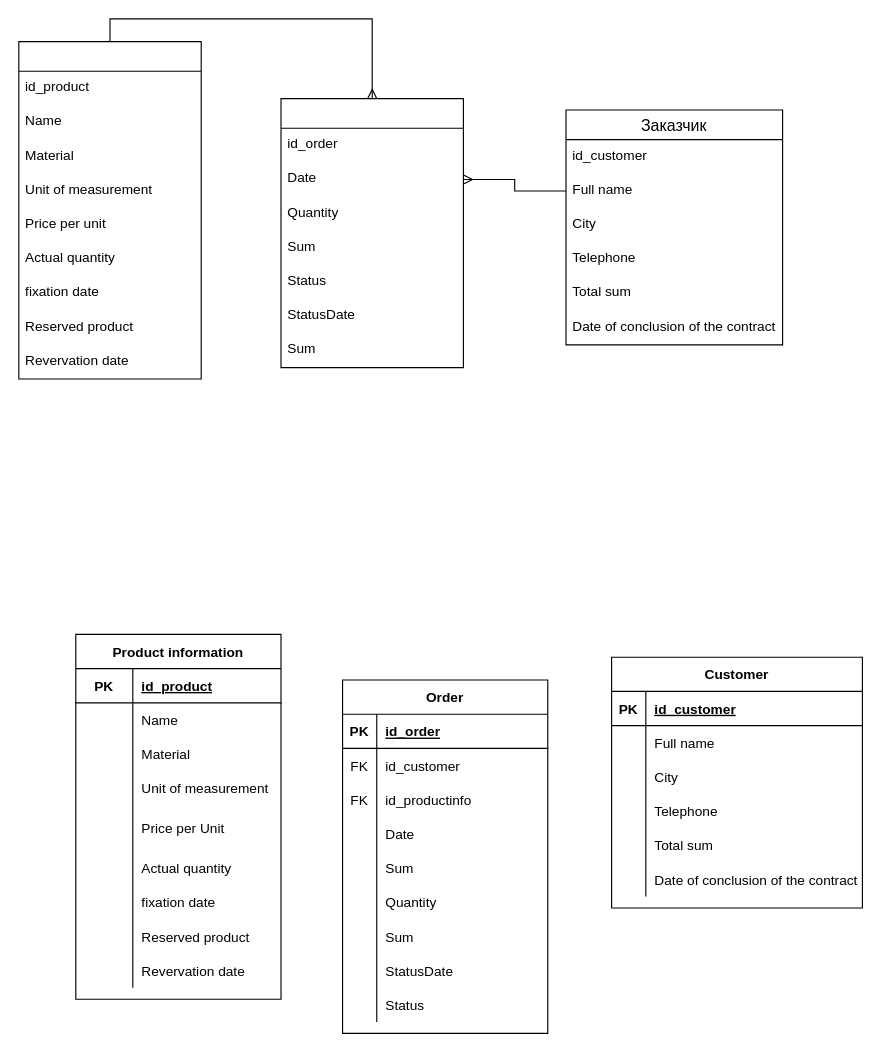
Image size: 881x1052. Some labels were removed from this diagram. The shapes that lost their labels are listed below. From the top down, each one's box as (x1, y1, x2, y2) in pixels, then its label:
(18, 40, 201, 379): Информация товара
(280, 97, 463, 368): Заказ
